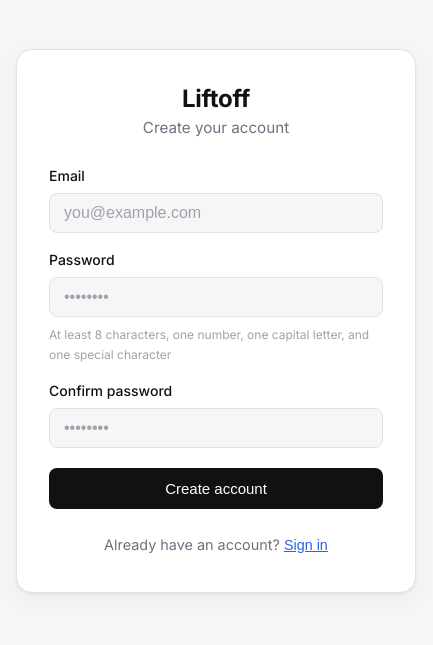
RegisterPage › shows error when passwords do not match
In the field labelled "Email": [216, 213] box left=49, top=193, right=383, bottom=233, type "test@example.com"
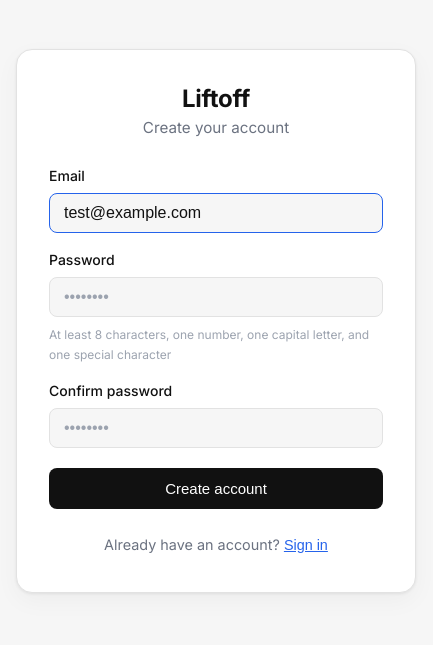
In the password field labelled "Password": [216, 297] box left=49, top=277, right=383, bottom=317, type "Password1!"
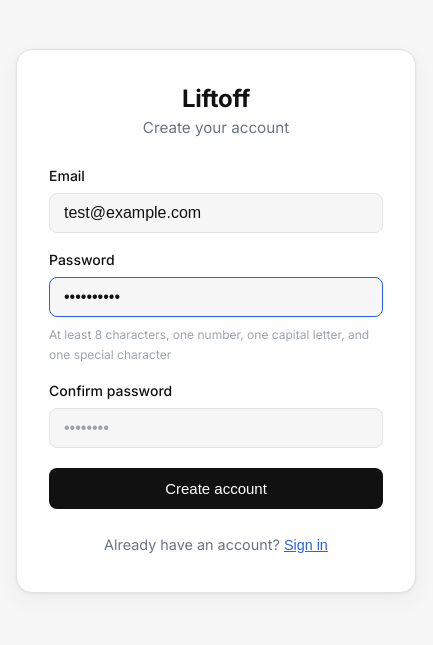
In the password field labelled "Confirm password": [216, 428] box left=49, top=408, right=383, bottom=448, type "Different1!"
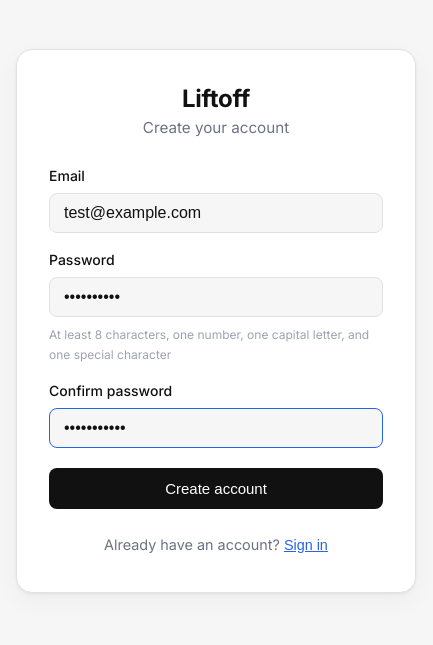
Click the button "Create account": [216, 489] box left=49, top=468, right=383, bottom=509
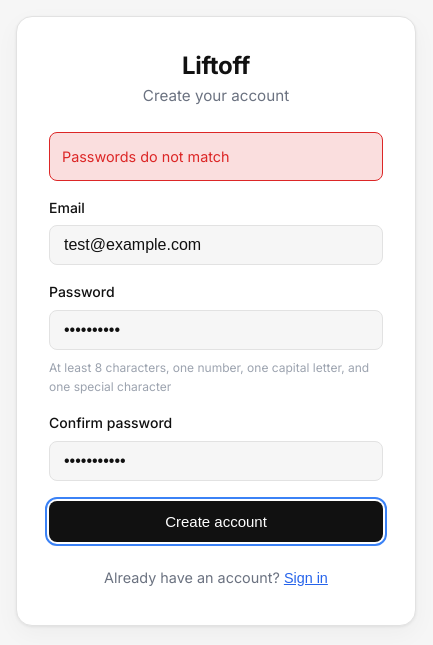
Expected: the text "Passwords do not match" is shown, left=49, top=132, right=383, bottom=181
